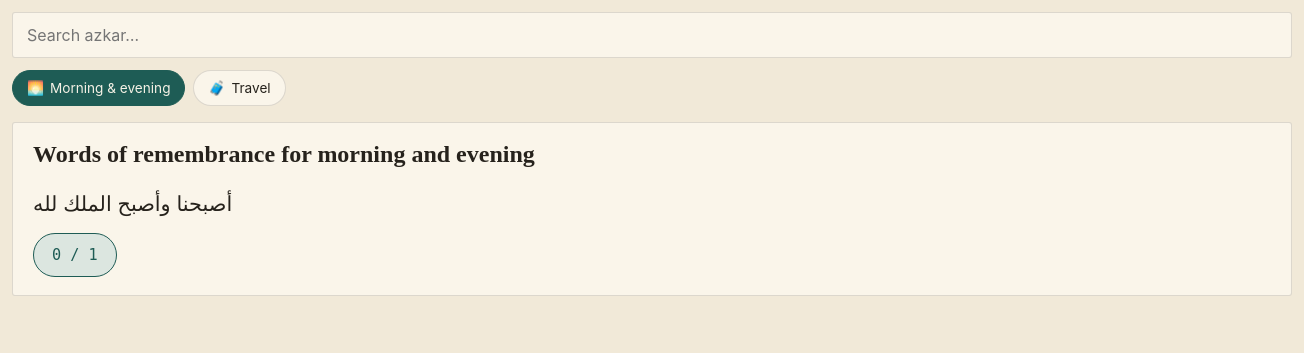
Test: AzkarBrowser › searches category titles across every section, in English or Arabic (with or without harakat)
Type "travel" into the search field labelled "Search azkar…" at (652, 35), box [12, 12, 1292, 58]
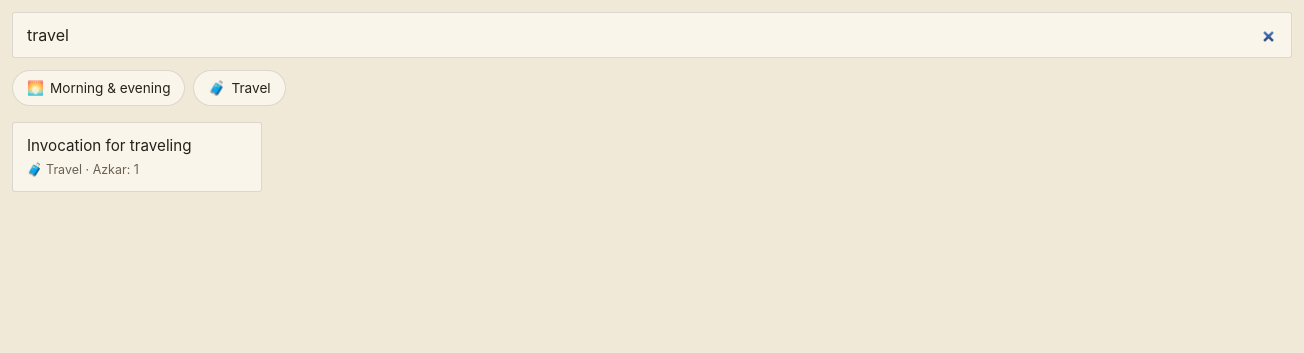
Expected: the button "Invocation for traveling 🧳 Travel · Azkar: 1" is shown, [12, 122, 262, 192]
Replace the text in the search field named "Search azkar…" with "السَّفَر" at (652, 35), box [12, 12, 1292, 58]
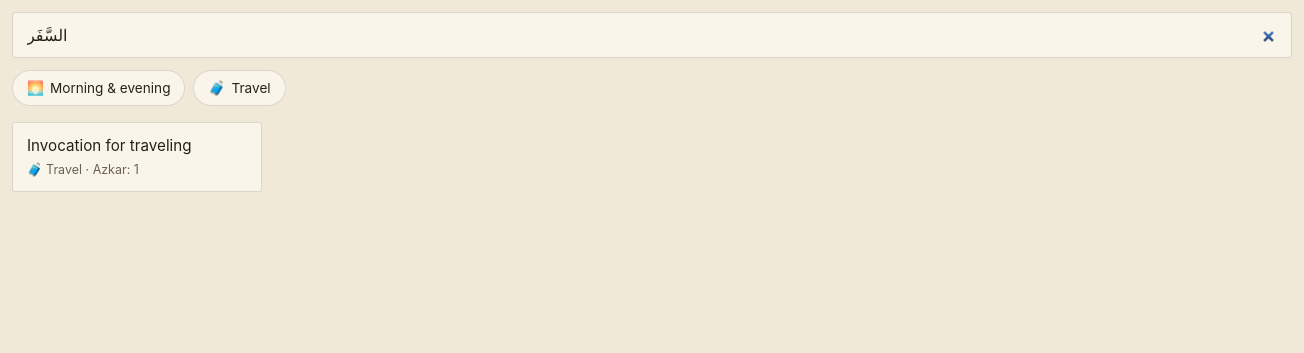
Click the button "Invocation for traveling 🧳 Travel · Azkar: 1" at (137, 157), box [12, 122, 262, 192]
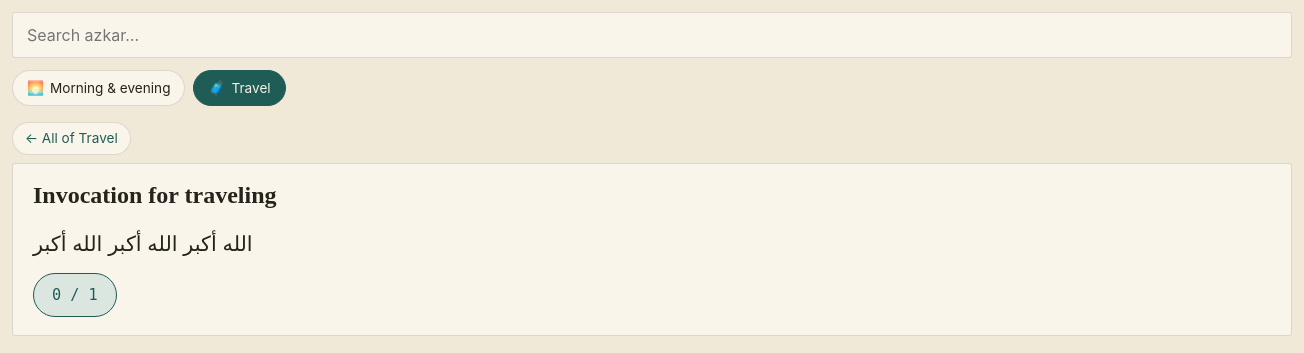
Expected: the text "الله أكبر الله أكبر الله أكبر" is shown, [33, 232, 253, 255]
